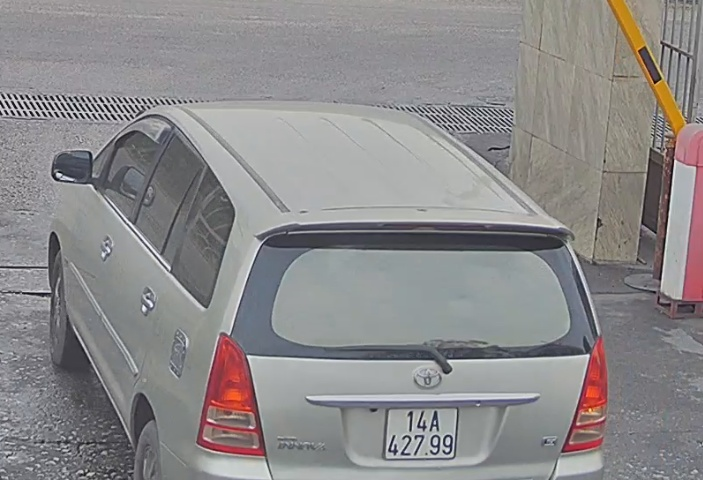vehicle plate: (377, 402, 460, 462)
